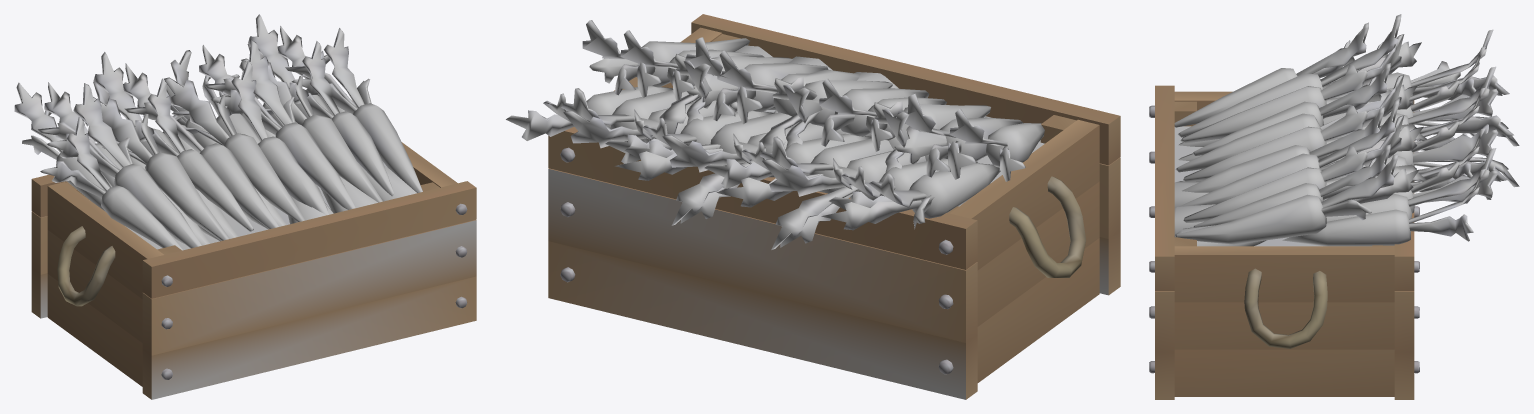
Rendered from FarmCrate_Carrot.glb.
3 renders of one model, left to right at view 1: azimuth 30°, elevation 25°; view 2: azimuth 150°, elevation 25°; view 3: azimuth 270°, elevation 25°, orthographic. The views are drawn at different scales.
Visible parts, largest first — view 1: FarmCrate_Carrot_37d49c, FarmCrate_Carrot_69c0f4, FarmCrate_Carrot_1d79fc; view 2: FarmCrate_Carrot_37d49c, FarmCrate_Carrot_69c0f4, FarmCrate_Carrot_1d79fc; view 3: FarmCrate_Carrot_69c0f4, FarmCrate_Carrot_37d49c, FarmCrate_Carrot_1d79fc.
Boxes of the visible parts, bbox=[...] form: FarmCrate_Carrot_37d49c: bbox=[31, 142, 476, 399]; FarmCrate_Carrot_69c0f4: bbox=[14, 14, 422, 250]; FarmCrate_Carrot_1d79fc: bbox=[161, 203, 467, 379]; FarmCrate_Carrot_37d49c: bbox=[548, 14, 1120, 399]; FarmCrate_Carrot_69c0f4: bbox=[506, 20, 1044, 249]; FarmCrate_Carrot_1d79fc: bbox=[560, 147, 953, 374]; FarmCrate_Carrot_69c0f4: bbox=[1174, 14, 1519, 246]; FarmCrate_Carrot_37d49c: bbox=[1155, 85, 1414, 399]; FarmCrate_Carrot_1d79fc: bbox=[1149, 105, 1419, 373].
Bounding box in the file's own units: 0.7138 × 0.4113 × 0.567.
